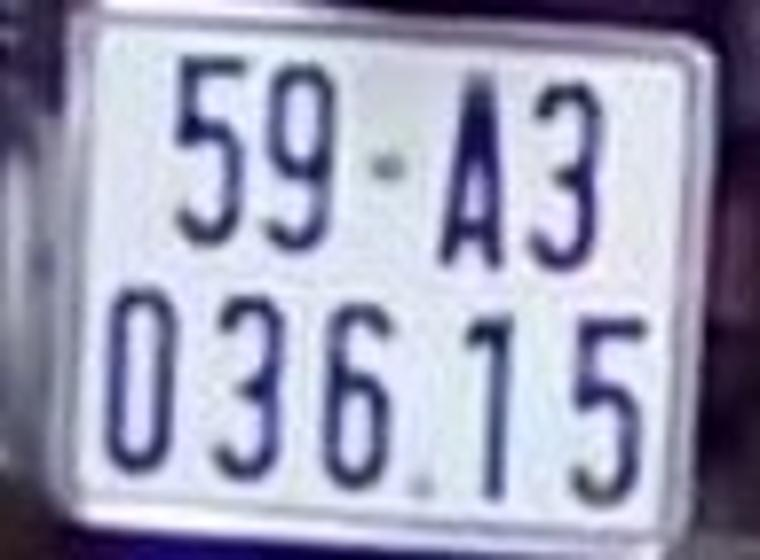-: (367, 149, 418, 187)
.: (398, 469, 446, 514)
0: (101, 268, 184, 484)
1: (459, 308, 525, 514)
3: (209, 272, 296, 491), (526, 70, 611, 279)
5: (171, 46, 260, 252), (569, 306, 656, 514)
6: (314, 279, 399, 496)
9: (261, 42, 342, 261)
A: (431, 62, 519, 282)
